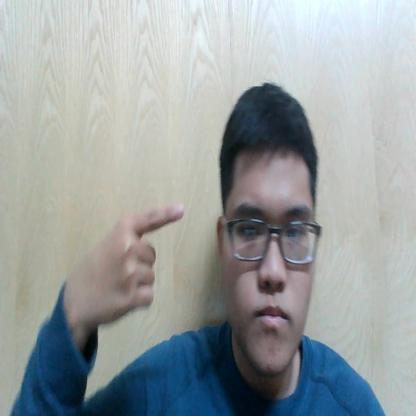left: (76, 187, 192, 328)
